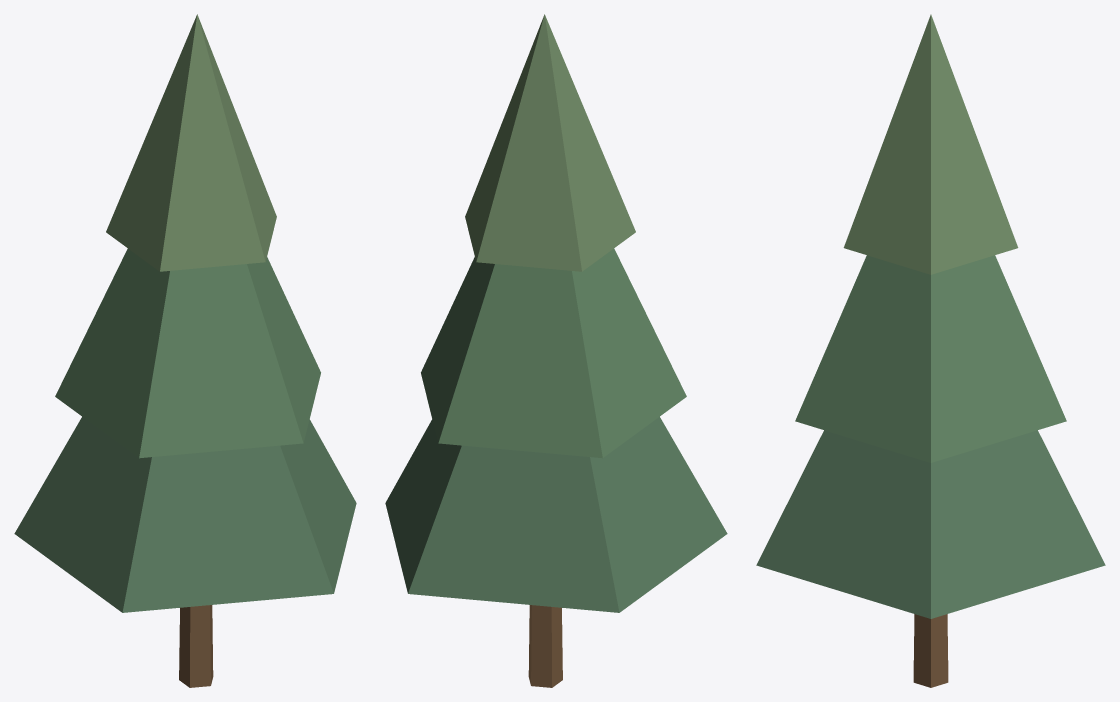
The model's file is pine_low.gltf.
3 views of the same model, side by side, from view 1: azimuth 30°, elevation 25°; view 2: azimuth 150°, elevation 25°; view 3: azimuth 270°, elevation 25° (orthographic).
Bounding box in the file's own units: 3.26 × 7.2 × 3.42.
